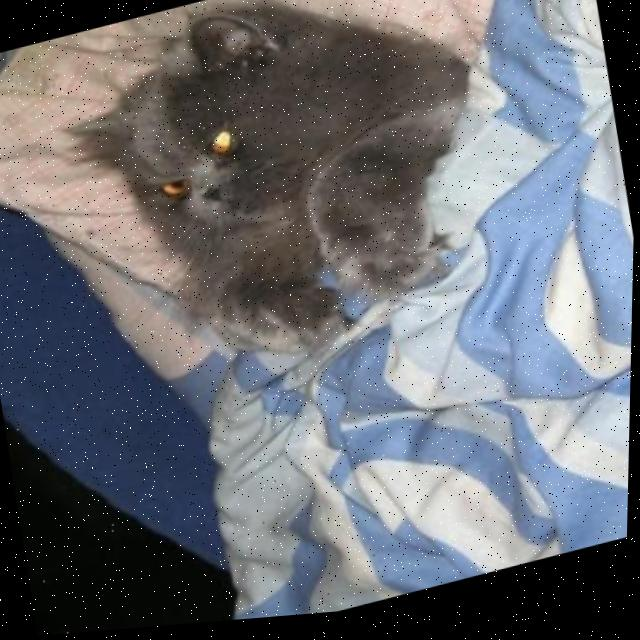Cats: (0, 0, 528, 441)
